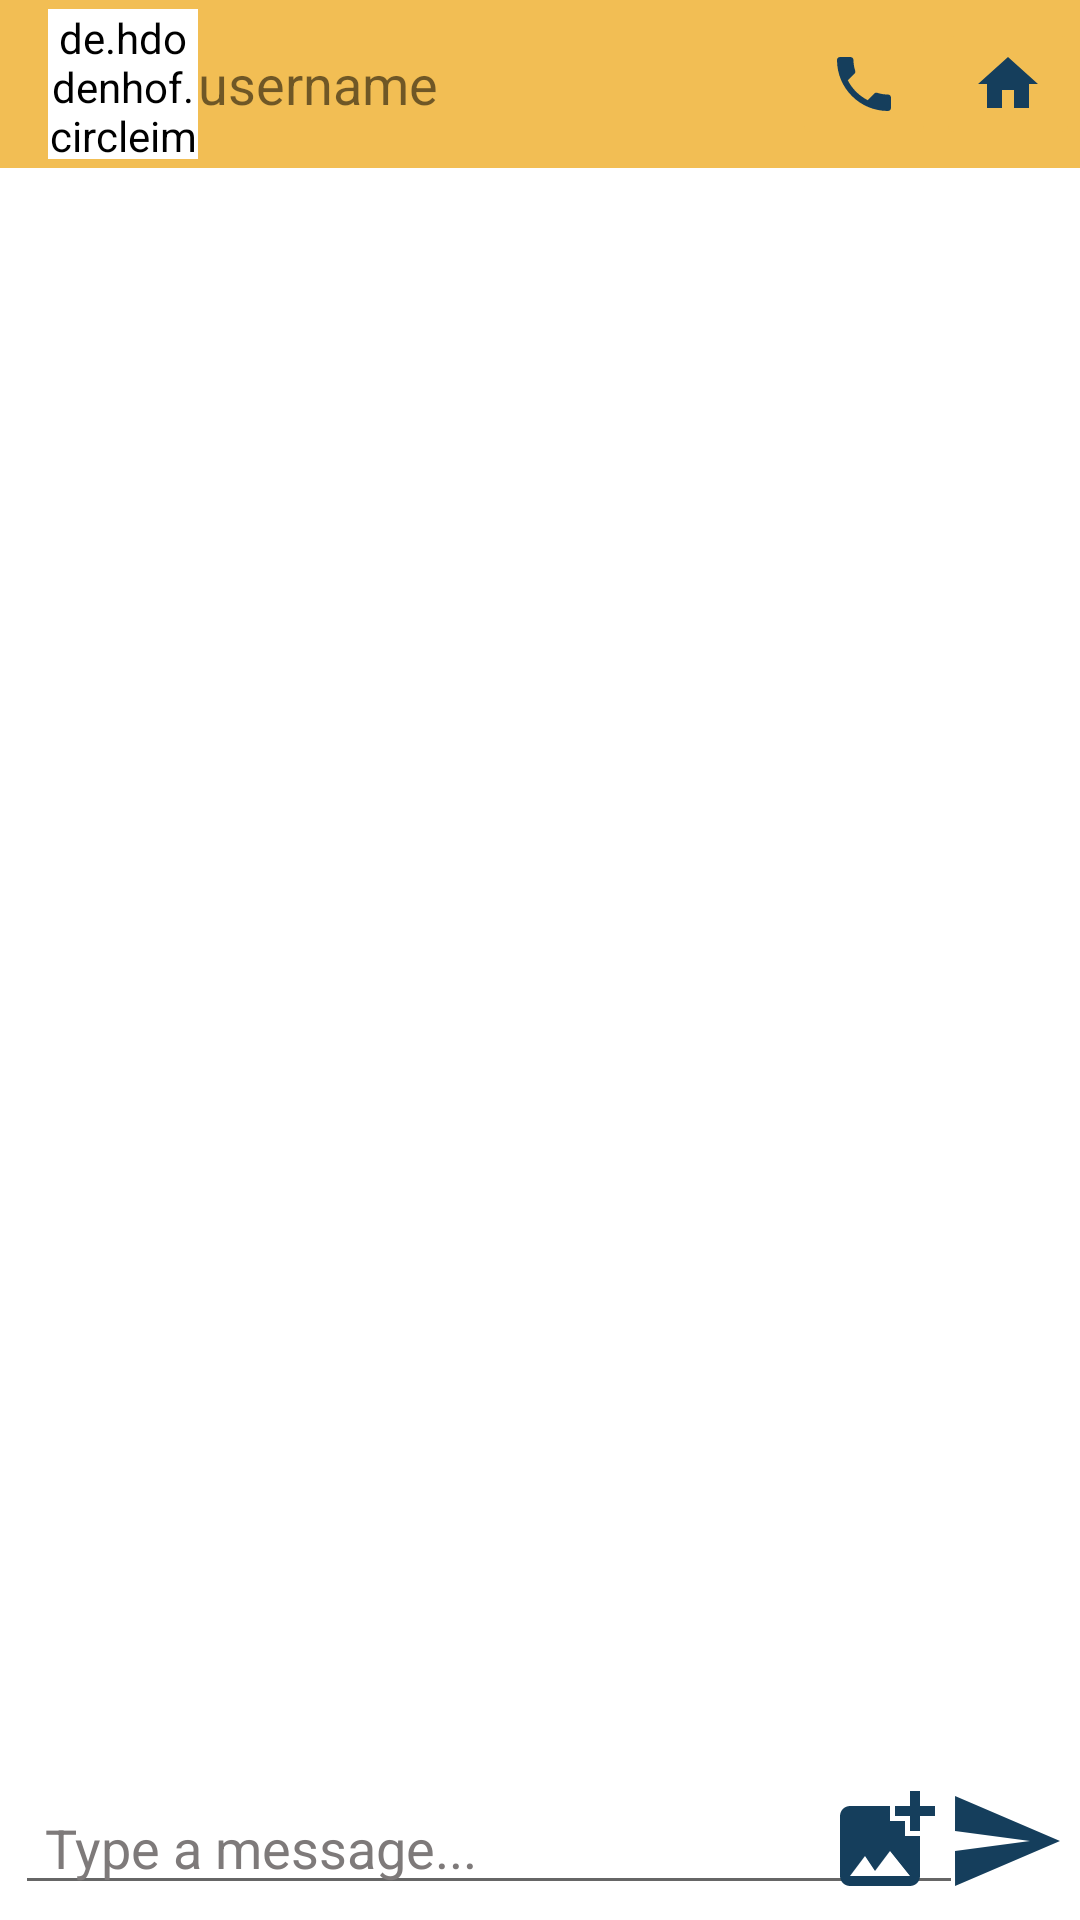

Where to tap for icons on this 1080 × 1920 app screen, as [x,y]:
calls: [864,84]
home: [1008,82]
send: [1007,1841]
